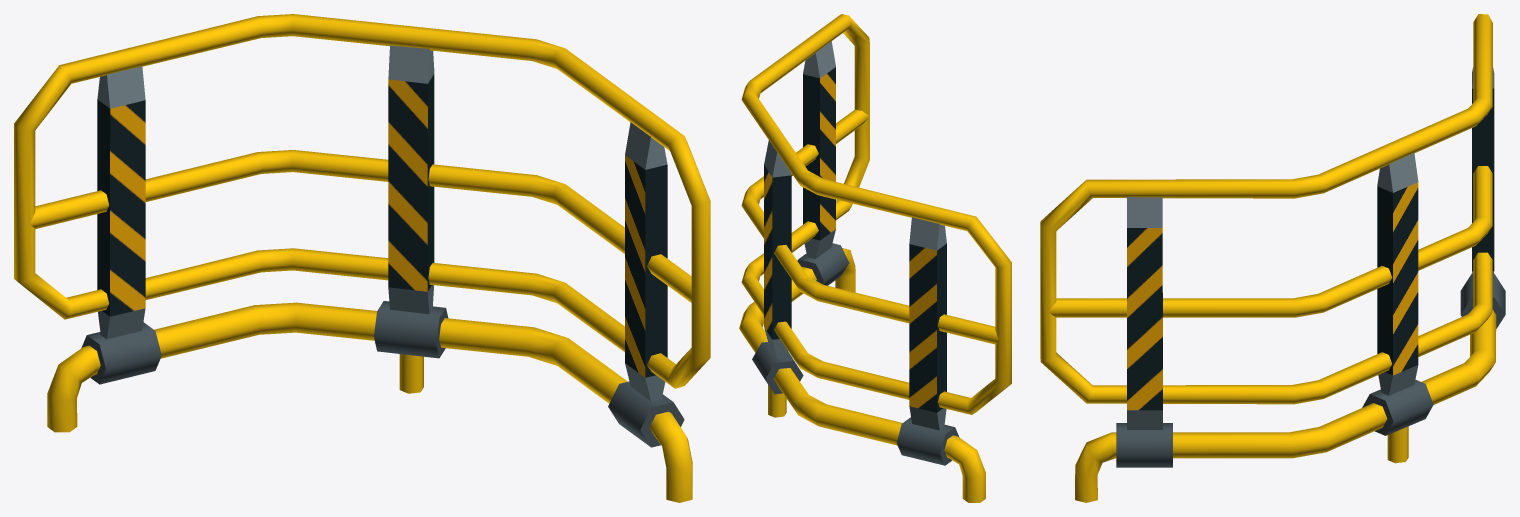
The model's file is Fence_type_C_006.glb.
3 renders of one model, left to right at view 1: azimuth 30°, elevation 25°; view 2: azimuth 150°, elevation 25°; view 3: azimuth 270°, elevation 25°, orthographic. The views are drawn at different scales.
Visible parts, largest first — view 1: Fence_type_C_006; view 2: Fence_type_C_006; view 3: Fence_type_C_006.
Part boxes in pixels (<box>): Fence_type_C_006: <box>14,14,710,502</box>; Fence_type_C_006: <box>739,14,1011,502</box>; Fence_type_C_006: <box>1040,14,1505,502</box>.
Bounding box in the file's own units: 1.9 × 1.43 × 1.9.
1 material, 1 textured.
